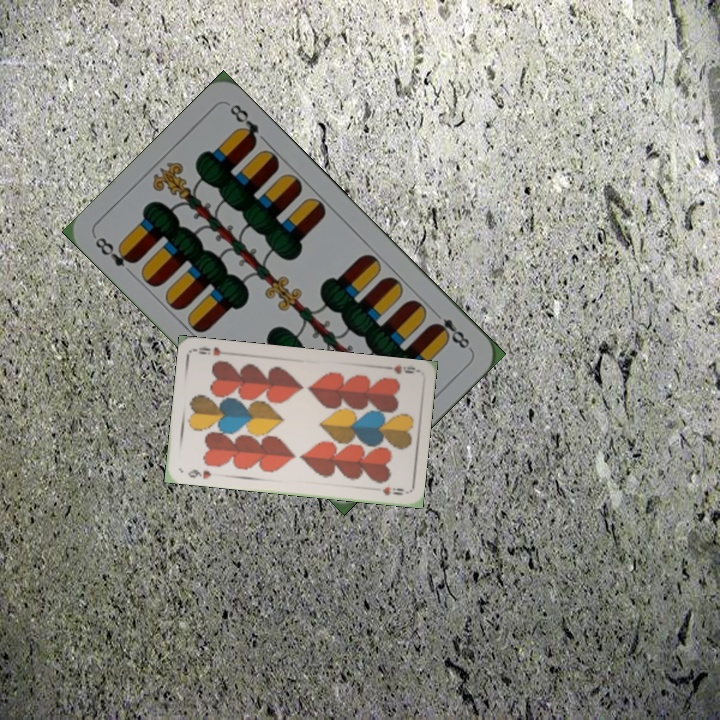E8: (428, 306, 474, 353), (91, 233, 140, 270)
H9: (380, 360, 420, 376), (183, 465, 214, 481)
